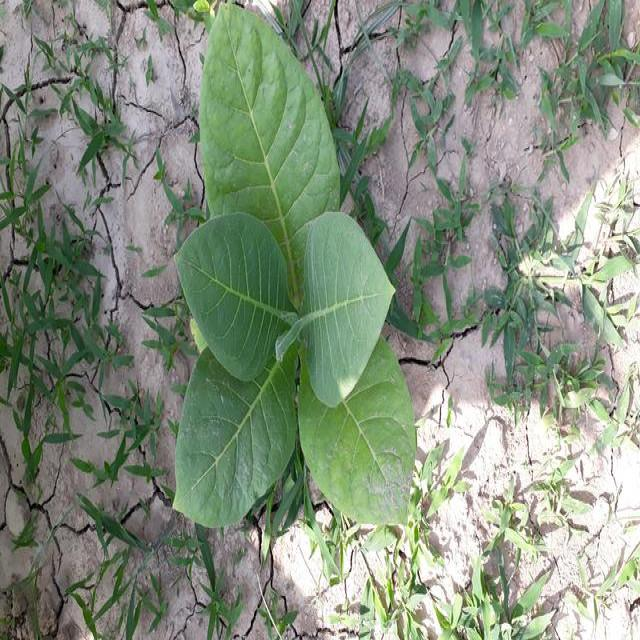crop: (178, 6, 410, 530)
